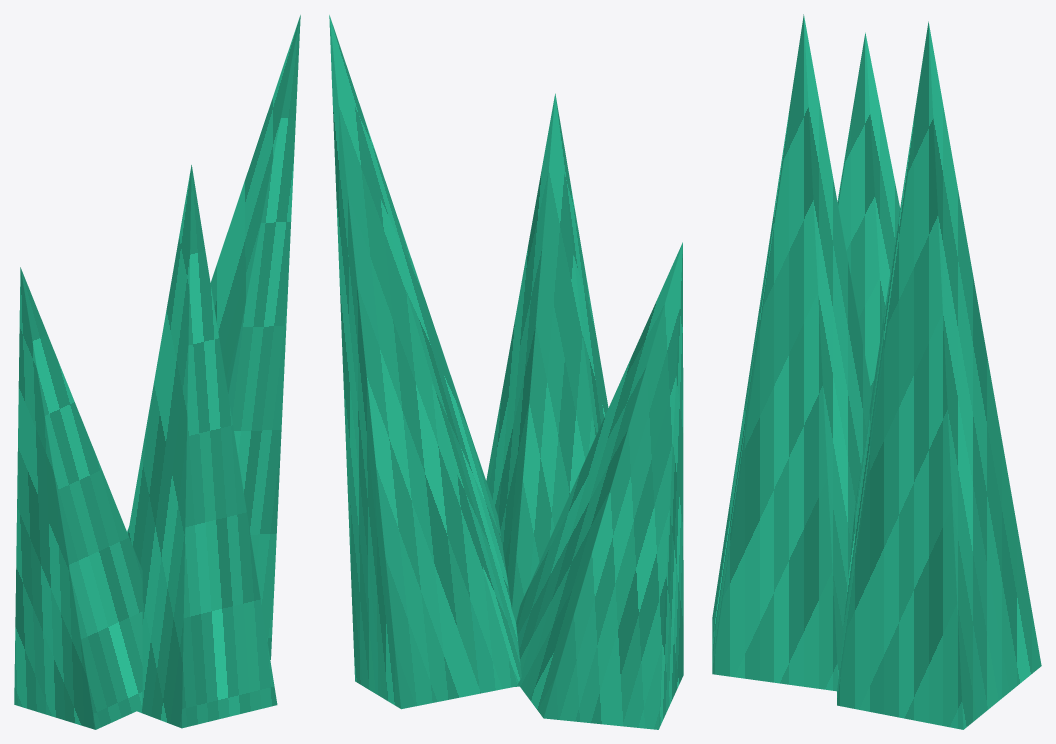
Rendered from crystal_40.glb.
The picture shows the model from 3 angles, left to right: view 1: azimuth 30°, elevation 25°; view 2: azimuth 150°, elevation 25°; view 3: azimuth 270°, elevation 25°; orthographic projection. The views are drawn at different scales.
Parts seen in each view (by area): view 1: Jade.001, Jade, Jade.002; view 2: Jade.002, Jade, Jade.001; view 3: Jade.002, Jade.001, Jade.
Part boxes in pixels (left/top/right/bottom): Jade.001: left=128, top=165, right=277, bottom=728; Jade: left=14, top=267, right=142, bottom=729; Jade.002: left=127, top=15, right=300, bottom=659; Jade.002: left=329, top=15, right=521, bottom=709; Jade: left=516, top=242, right=683, bottom=729; Jade.001: left=486, top=93, right=608, bottom=686; Jade.002: left=837, top=21, right=1041, bottom=729; Jade.001: left=712, top=14, right=871, bottom=691; Jade: left=837, top=32, right=900, bottom=393.
Size of the model in its own units: 0.8288 by 1.57 by 0.6405.
1 material, 1 textured.
